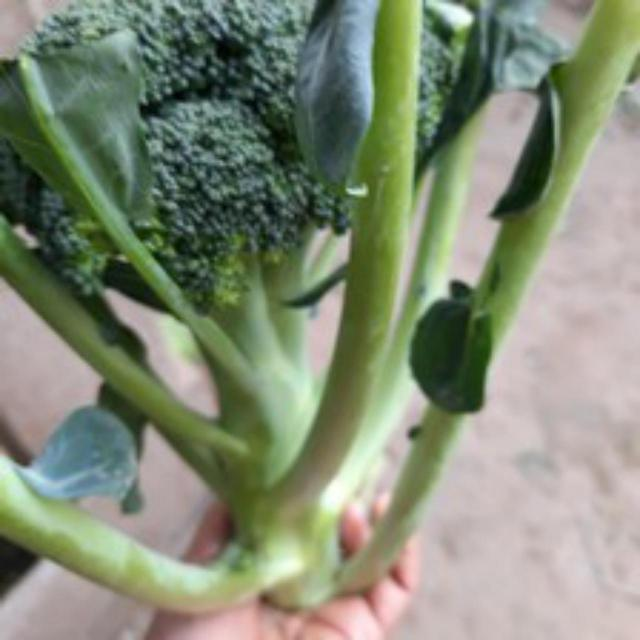broccoli: (12, 0, 425, 412)
